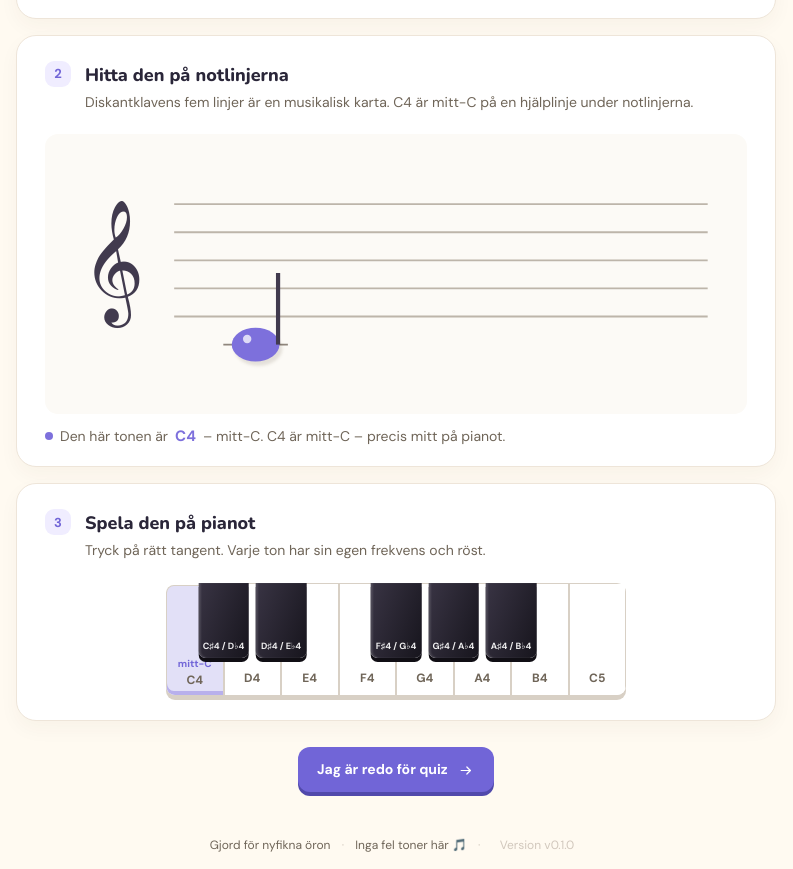
Scenario: Note Nest lesson › keeps the same note when the learner wants to try again
The image size is (793, 869).
(page scrolled)
Click the button "Jag är redo för quiz": x=396, y=770 [298,747,494,792]
(page scrolled)
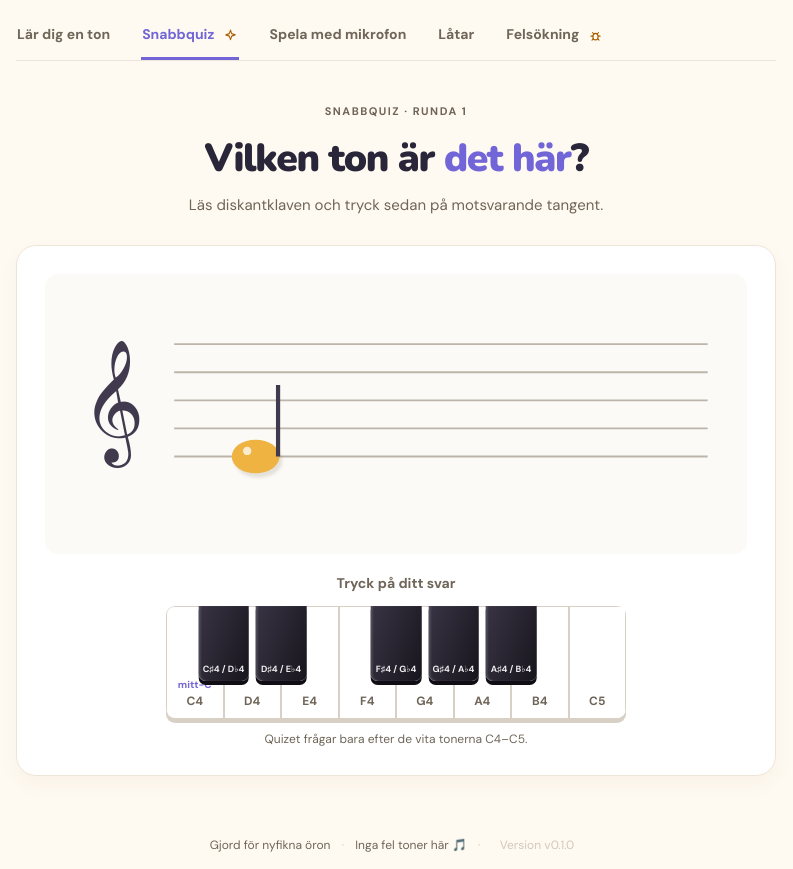
Click the button named "Spela A4": x=482, y=662 [454,606,511,718]
(page scrolled)
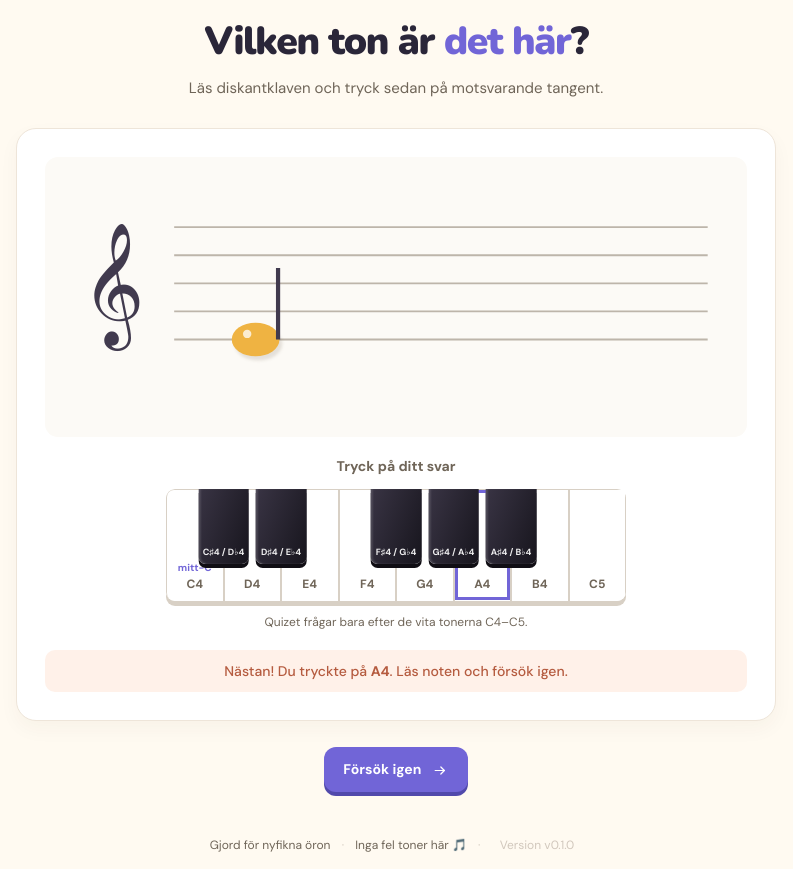
Expected: the message shows "Du tryckte på A4", [45,650,747,692]
Click the button "Försök igen": x=396, y=770 [324,747,468,792]
(page scrolled)
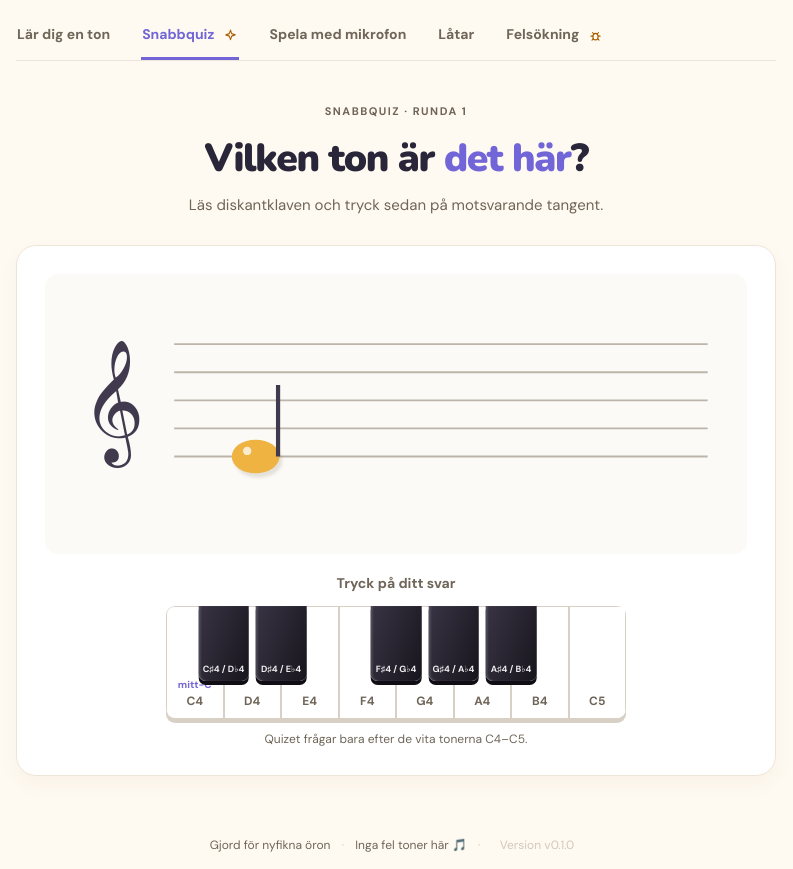
Expected: the picture named "Diskantklav med tonen E4" is shown, [45,274,747,554]
Expected: the message "Nästan! Du tryckte på A4. Läs noten och försök igen." is gone
